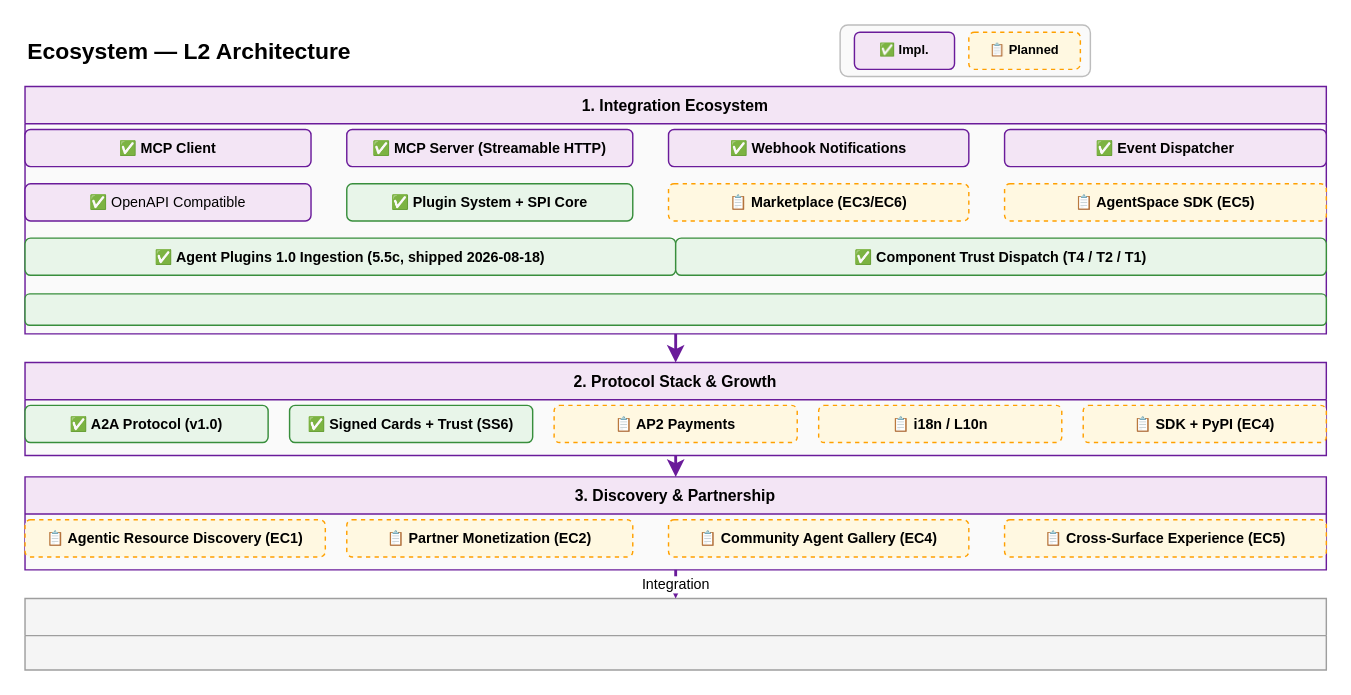
This 1351x695 diagram has some shape labels left out. Here are the shapes that lost their labels. From the top down, the centre of each, then its label:
At [675,308]: "✅ T0 Trust Gate (5.5 enh) — PythonEntryPolicy + install rollback + SaaS pip skip".
At [675,633]: "⤵ To All Services — Integration via MCP / A2A / ARD / REST / Webhook / Events".
